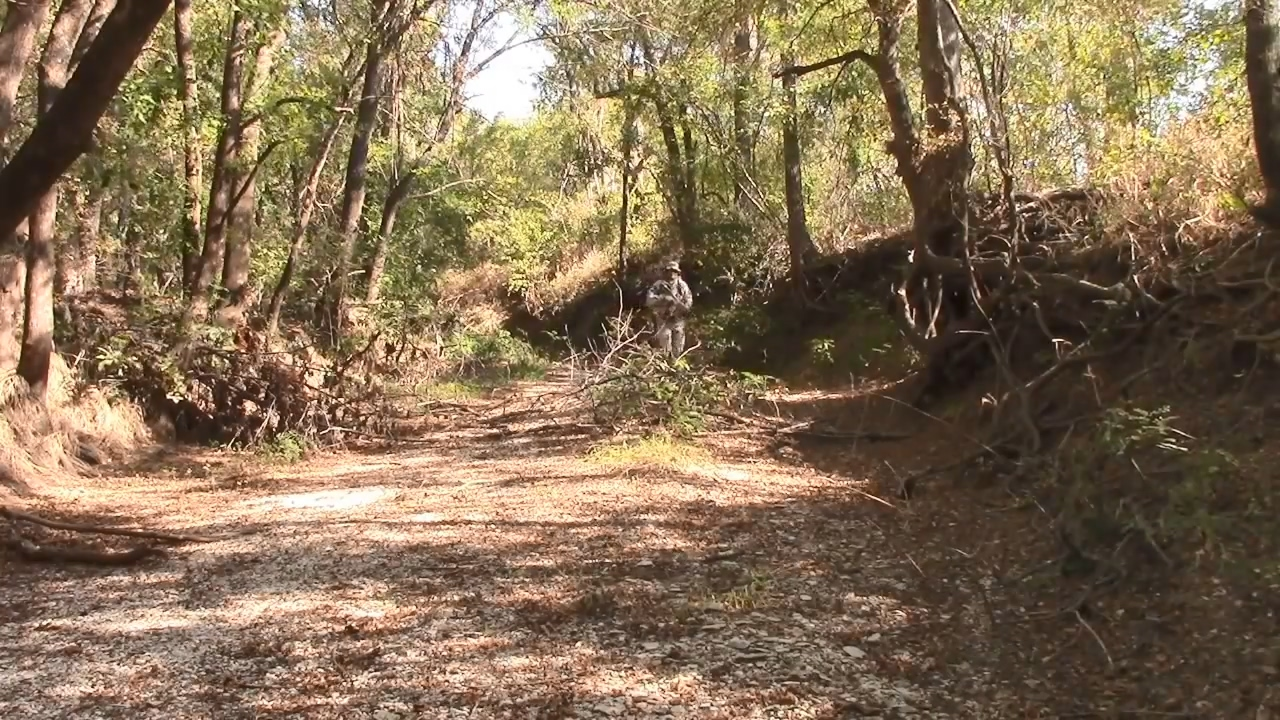person: (643, 251, 697, 374)
